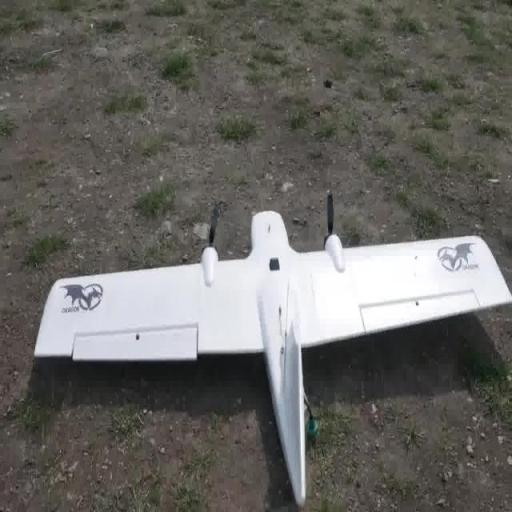uav: (31, 177, 511, 509)
